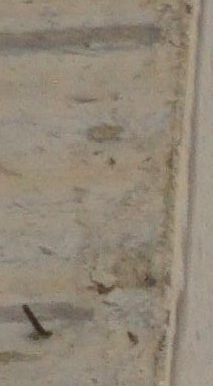Exposed reinforcement: (22, 304, 47, 335)
